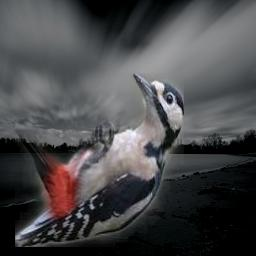Woodpecker: (15, 73, 184, 247)
